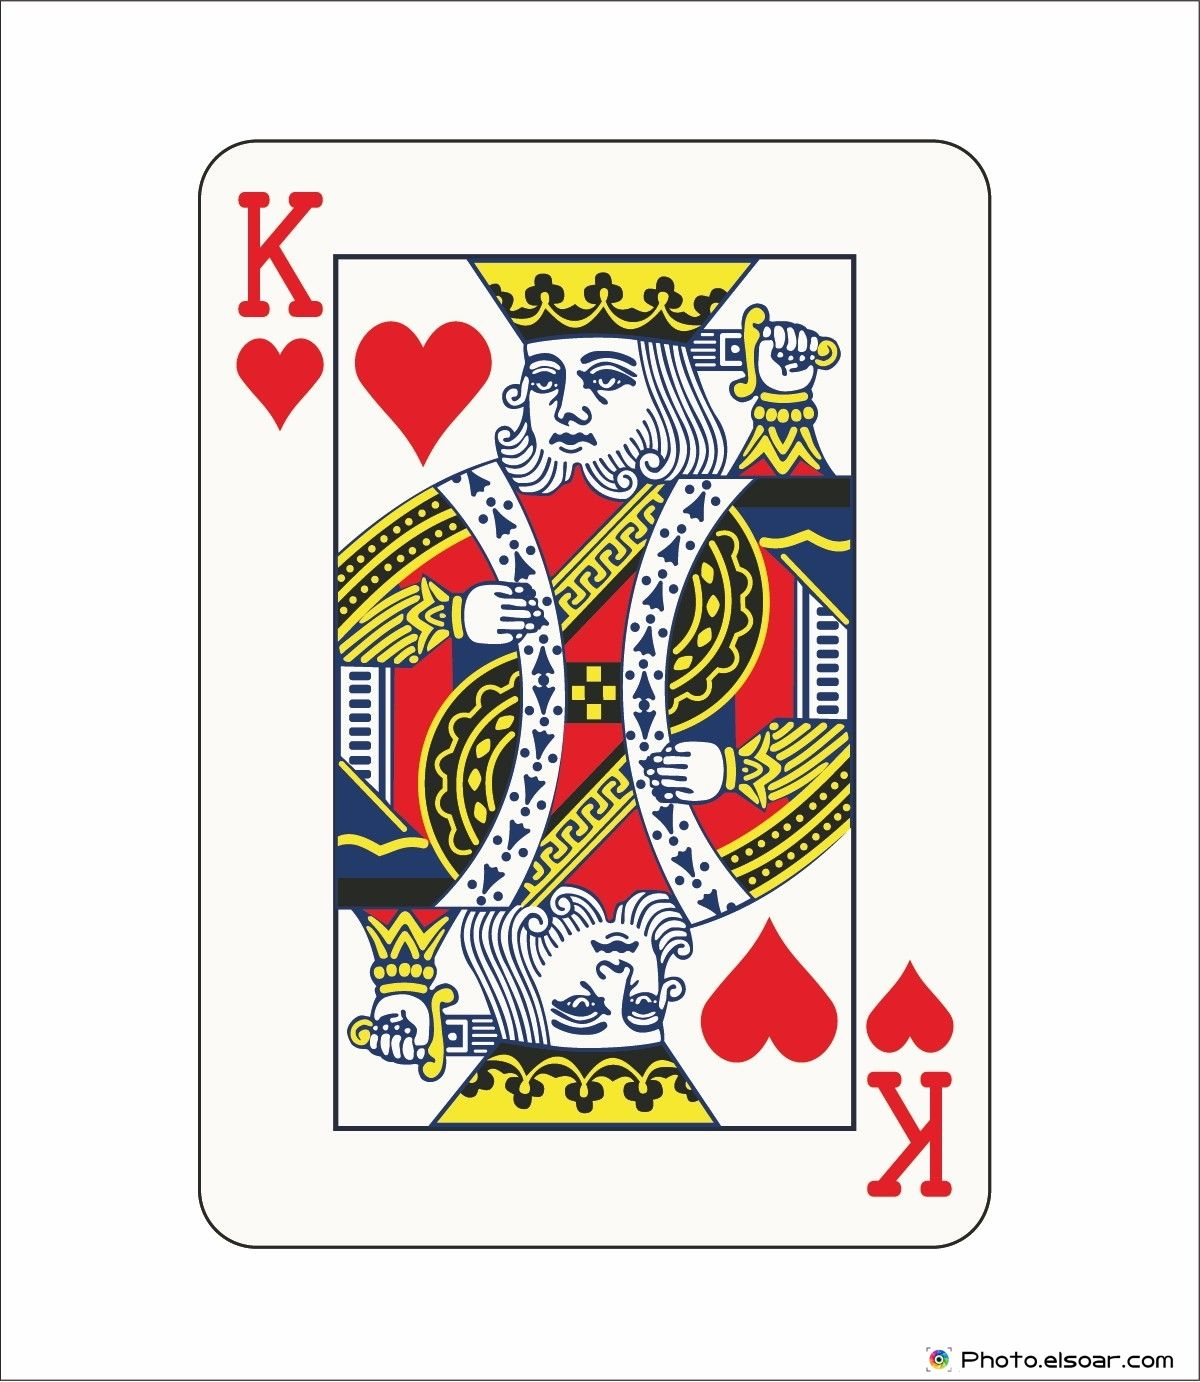king of hearts: (199, 141, 985, 1239)
